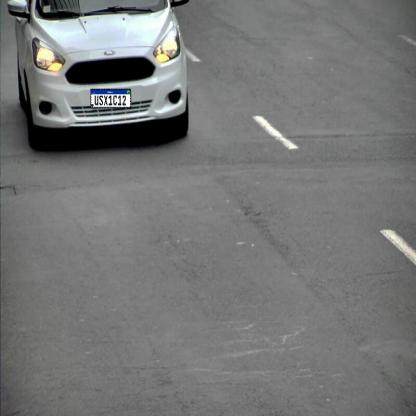PlacaM: (91, 89, 131, 108)
